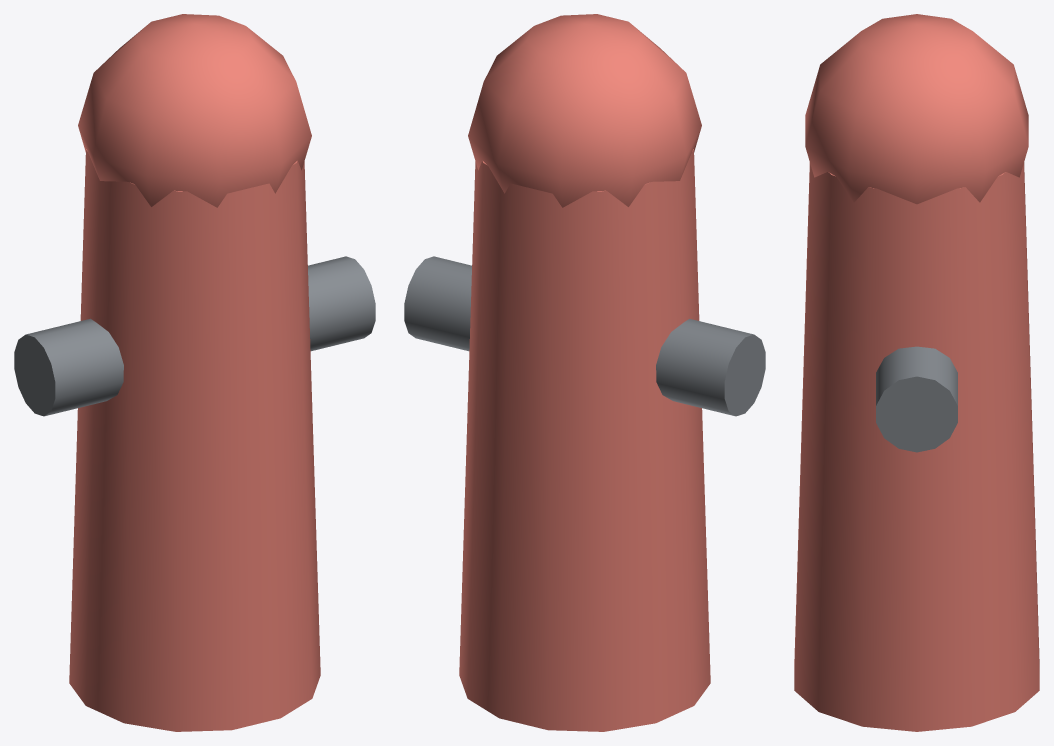
The model's file is FireHydrant.glb.
The picture shows the model from 3 angles, left to right: view 1: azimuth 30°, elevation 25°; view 2: azimuth 150°, elevation 25°; view 3: azimuth 270°, elevation 25°; orthographic projection.
Parts seen in each view (by area): view 1: model; view 2: model; view 3: model.
Part boxes in pixels (left/top/right/bottom): model: left=14, top=14, right=375, bottom=731; model: left=404, top=14, right=765, bottom=731; model: left=794, top=14, right=1039, bottom=731.
Bounding box in the file's own units: 0.44 × 0.86 × 0.2925.
